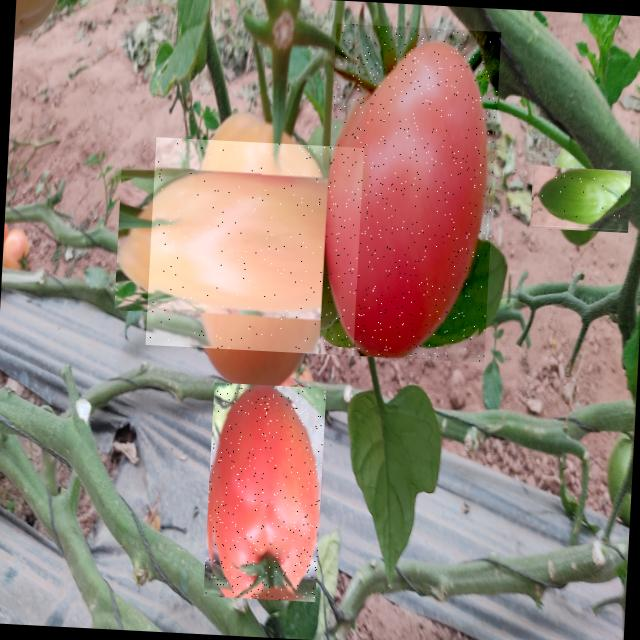Ripe Tomato: (319, 24, 502, 362), (145, 138, 364, 356), (204, 382, 326, 602)
Unripe Tomato: (534, 169, 630, 226)
